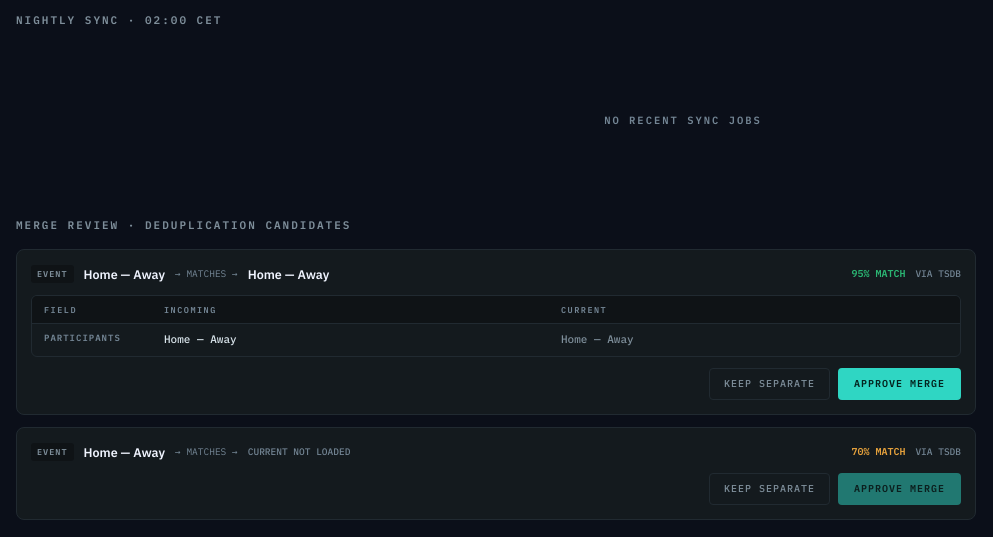
Test case: SyncScreen — merge decisions (D-3-T1) › APPROVE success → terminal ✓ MERGED status replaces the footer + badge decrements
Click the button with test id "ops-sync-approve" below "95".
click(900, 384)  # box [838,368,961,400]
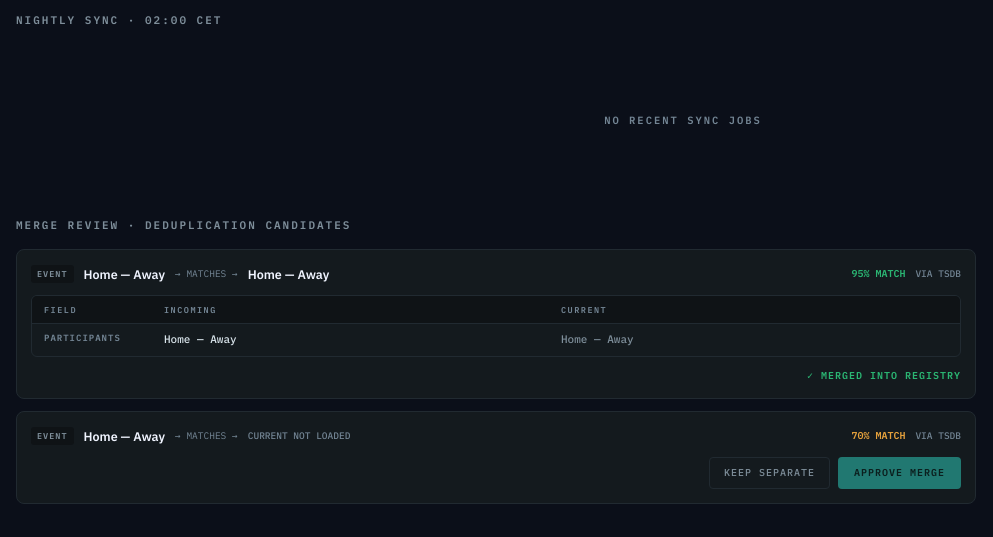
Result: the text with test id "ops-sync-decision-status" reads "✓ MERGED INTO REGISTRY" at [807,369,961,382]
